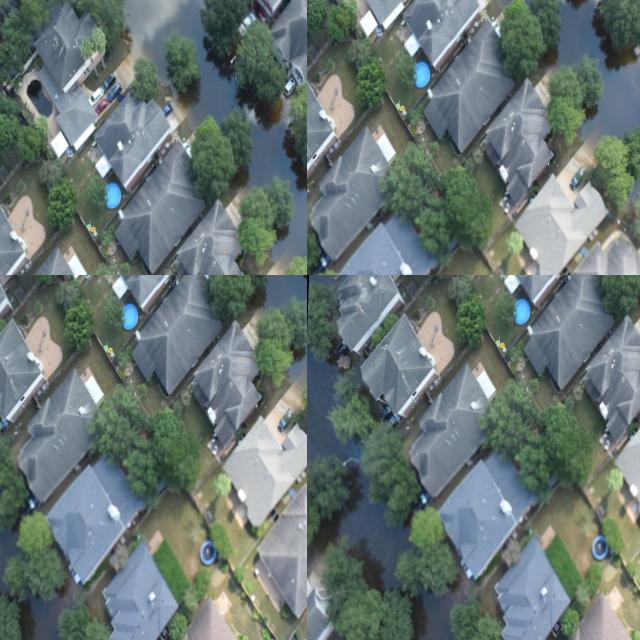fire: (307, 467, 410, 594), (307, 351, 356, 460), (410, 566, 466, 640)
